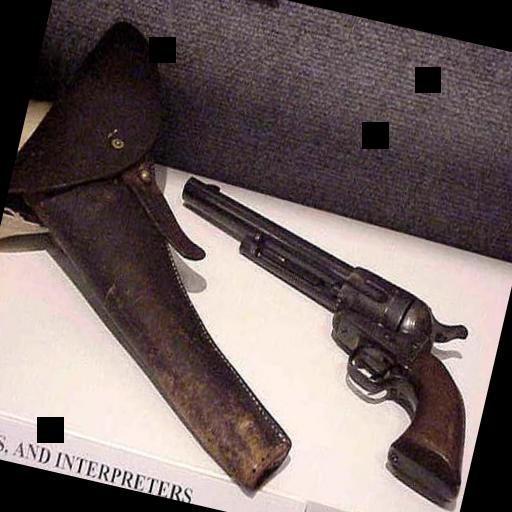Handgun: (127, 172, 512, 508)
